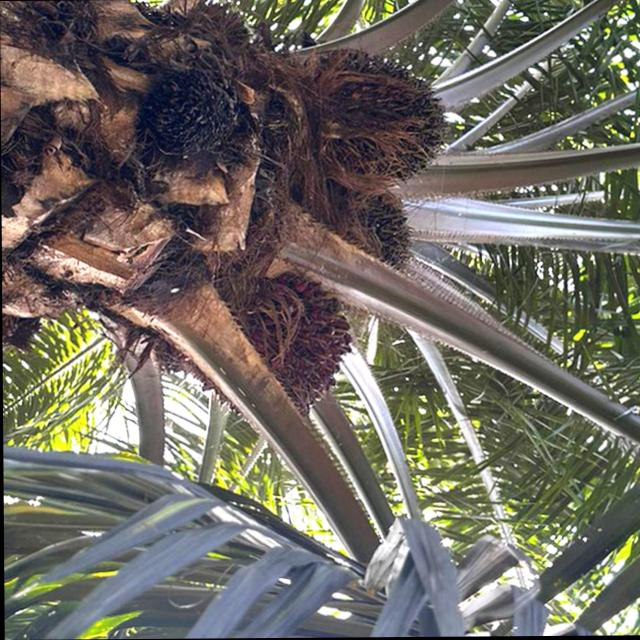ripe: (244, 269, 367, 421)
